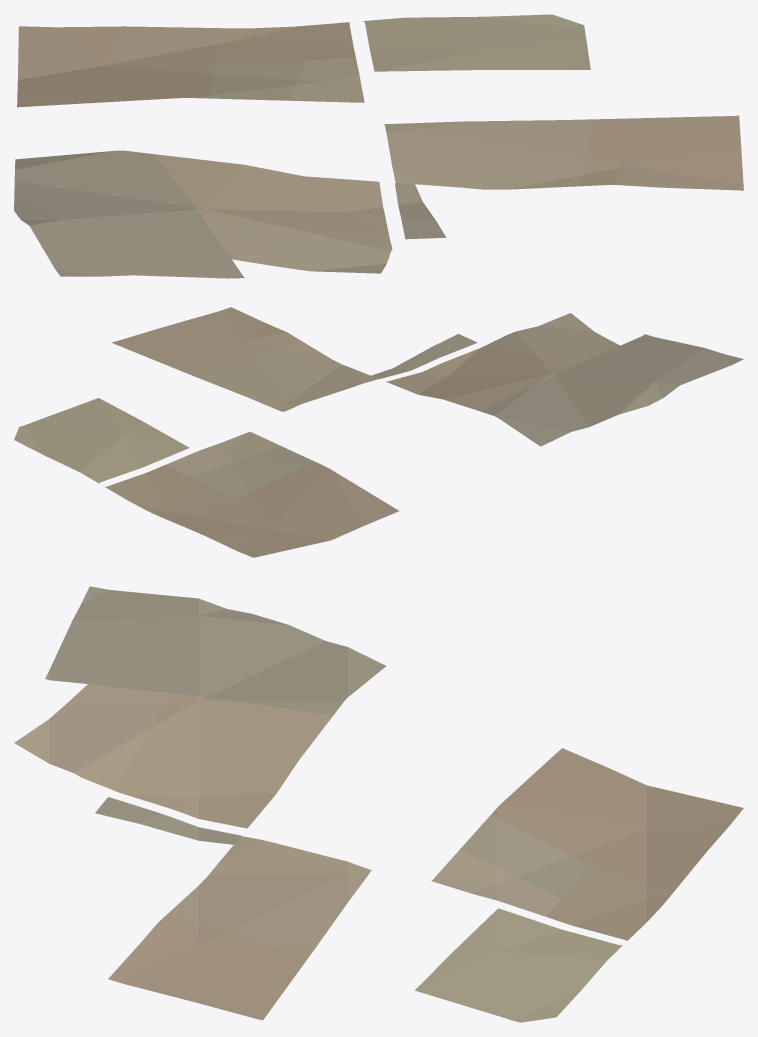
The model's file is farm_-30_-28_soil.glb.
3 views of the same model, one above another, from view 1: azimuth 30°, elevation 25°; view 2: azimuth 150°, elevation 25°; view 3: azimuth 270°, elevation 25° (orthographic). The views are drawn at different scales.
Parts seen in each view (by area): view 1: geometry_0; view 2: geometry_0; view 3: geometry_0.
Boxes of the visible parts, box(x1,y1,x2,y2) form: geometry_0: box(14, 14, 743, 278); geometry_0: box(14, 307, 743, 557); geometry_0: box(14, 586, 743, 1022).
Bounding box in the file's own units: 438 × 57.93 × 391.
